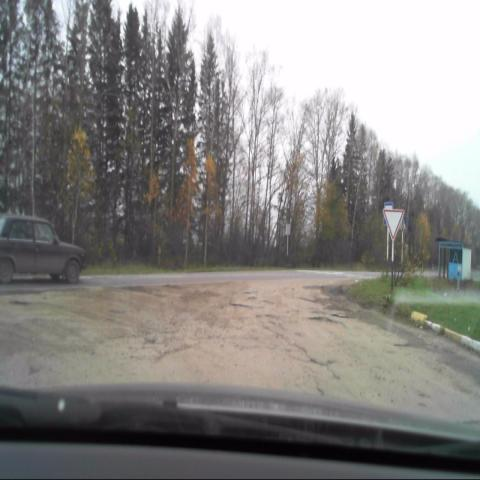2_4: (384, 207, 402, 239)
5_19_1: (400, 219, 407, 234)
